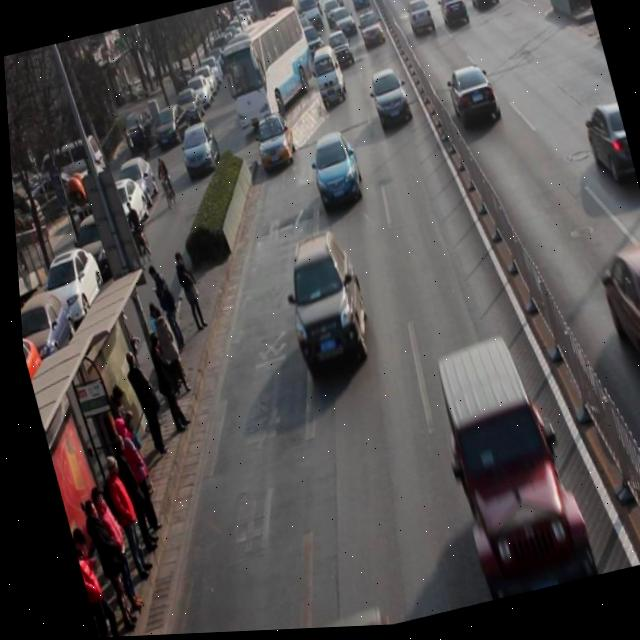car: (420, 334, 593, 607), (267, 228, 377, 385), (594, 245, 640, 399), (579, 102, 636, 196), (302, 130, 365, 215), (443, 63, 503, 139), (248, 110, 301, 177), (365, 66, 413, 135), (297, 25, 330, 72), (405, 0, 438, 46), (325, 30, 357, 76), (355, 11, 387, 54), (436, 0, 472, 36), (467, 0, 502, 19), (441, 0, 470, 6)
truck: (307, 45, 351, 115)
van: (211, 6, 325, 134)
